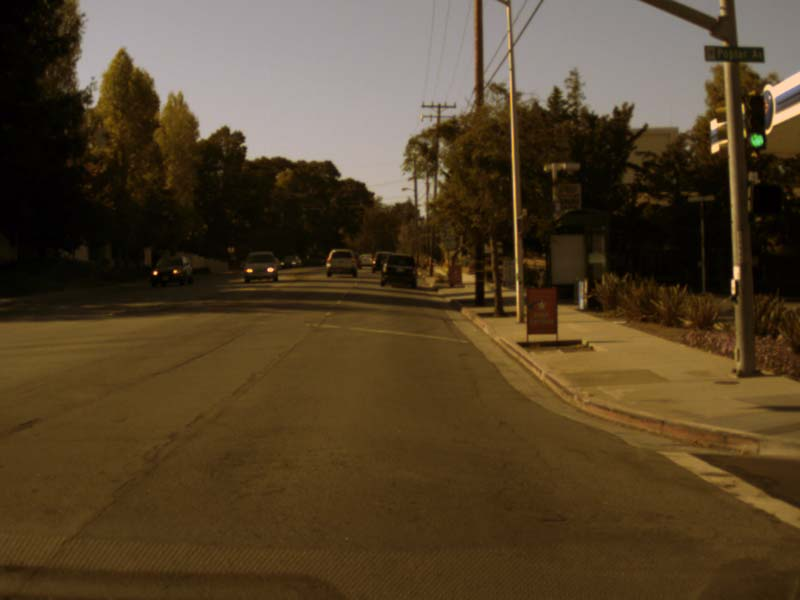Green: (745, 95, 766, 148)
